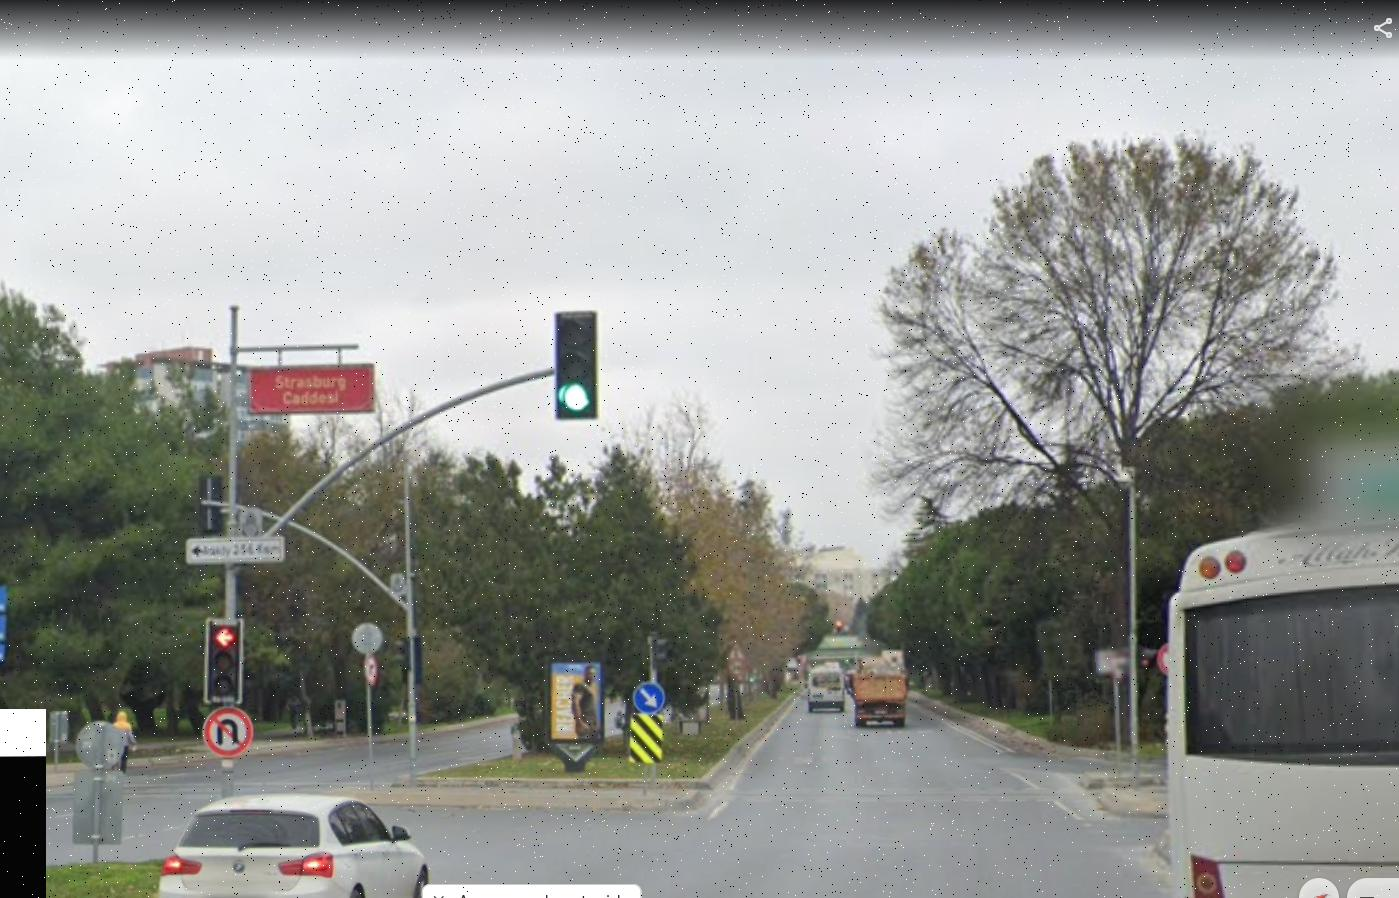greenlight: (552, 308, 599, 424)
redlight: (210, 619, 239, 703)
rightturnsareforbidden: (364, 651, 379, 685)
